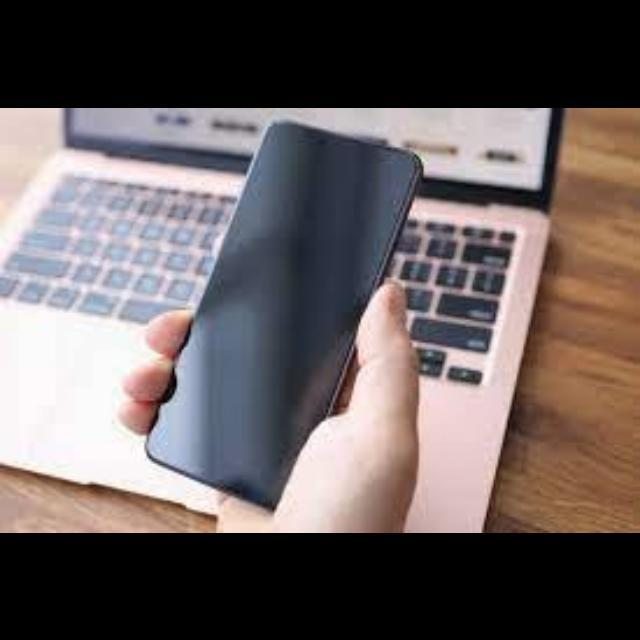Phone: (144, 118, 423, 510)
